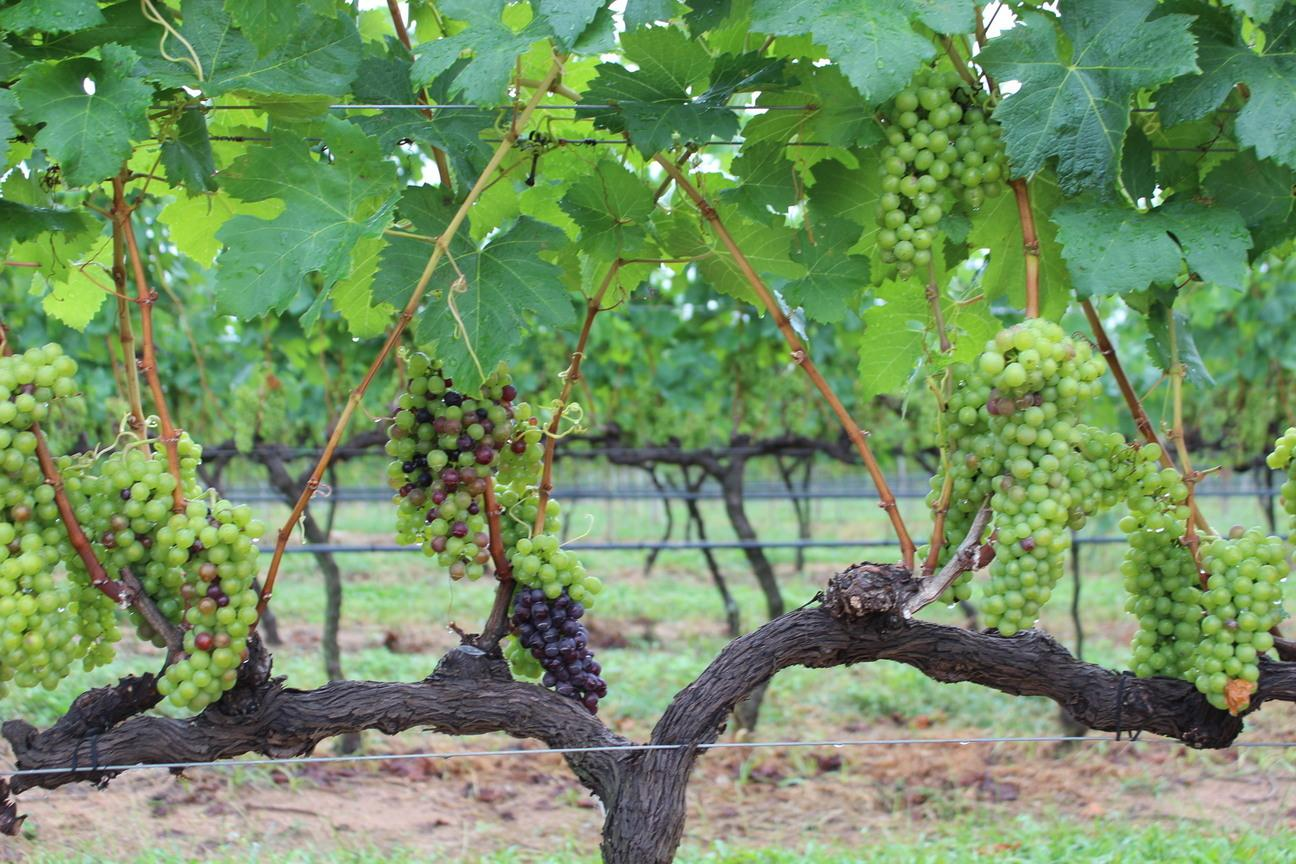leaf: (978, 0, 1196, 194), (217, 117, 394, 317), (413, 217, 573, 390), (749, 0, 972, 102), (13, 44, 150, 183), (410, 0, 542, 102), (560, 157, 653, 259), (162, 110, 216, 194), (0, 0, 104, 32), (438, 271, 448, 275)
